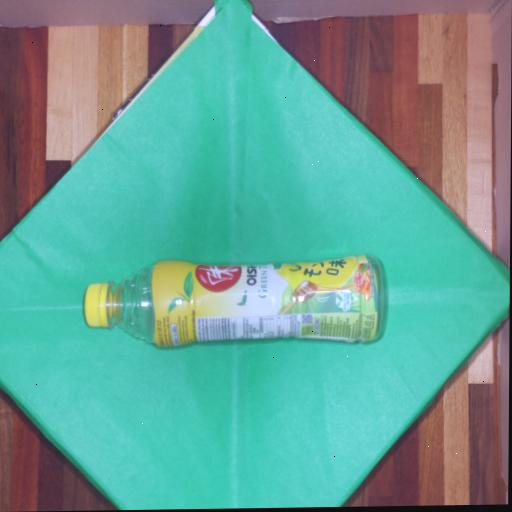bottle: (85, 251, 388, 353)
